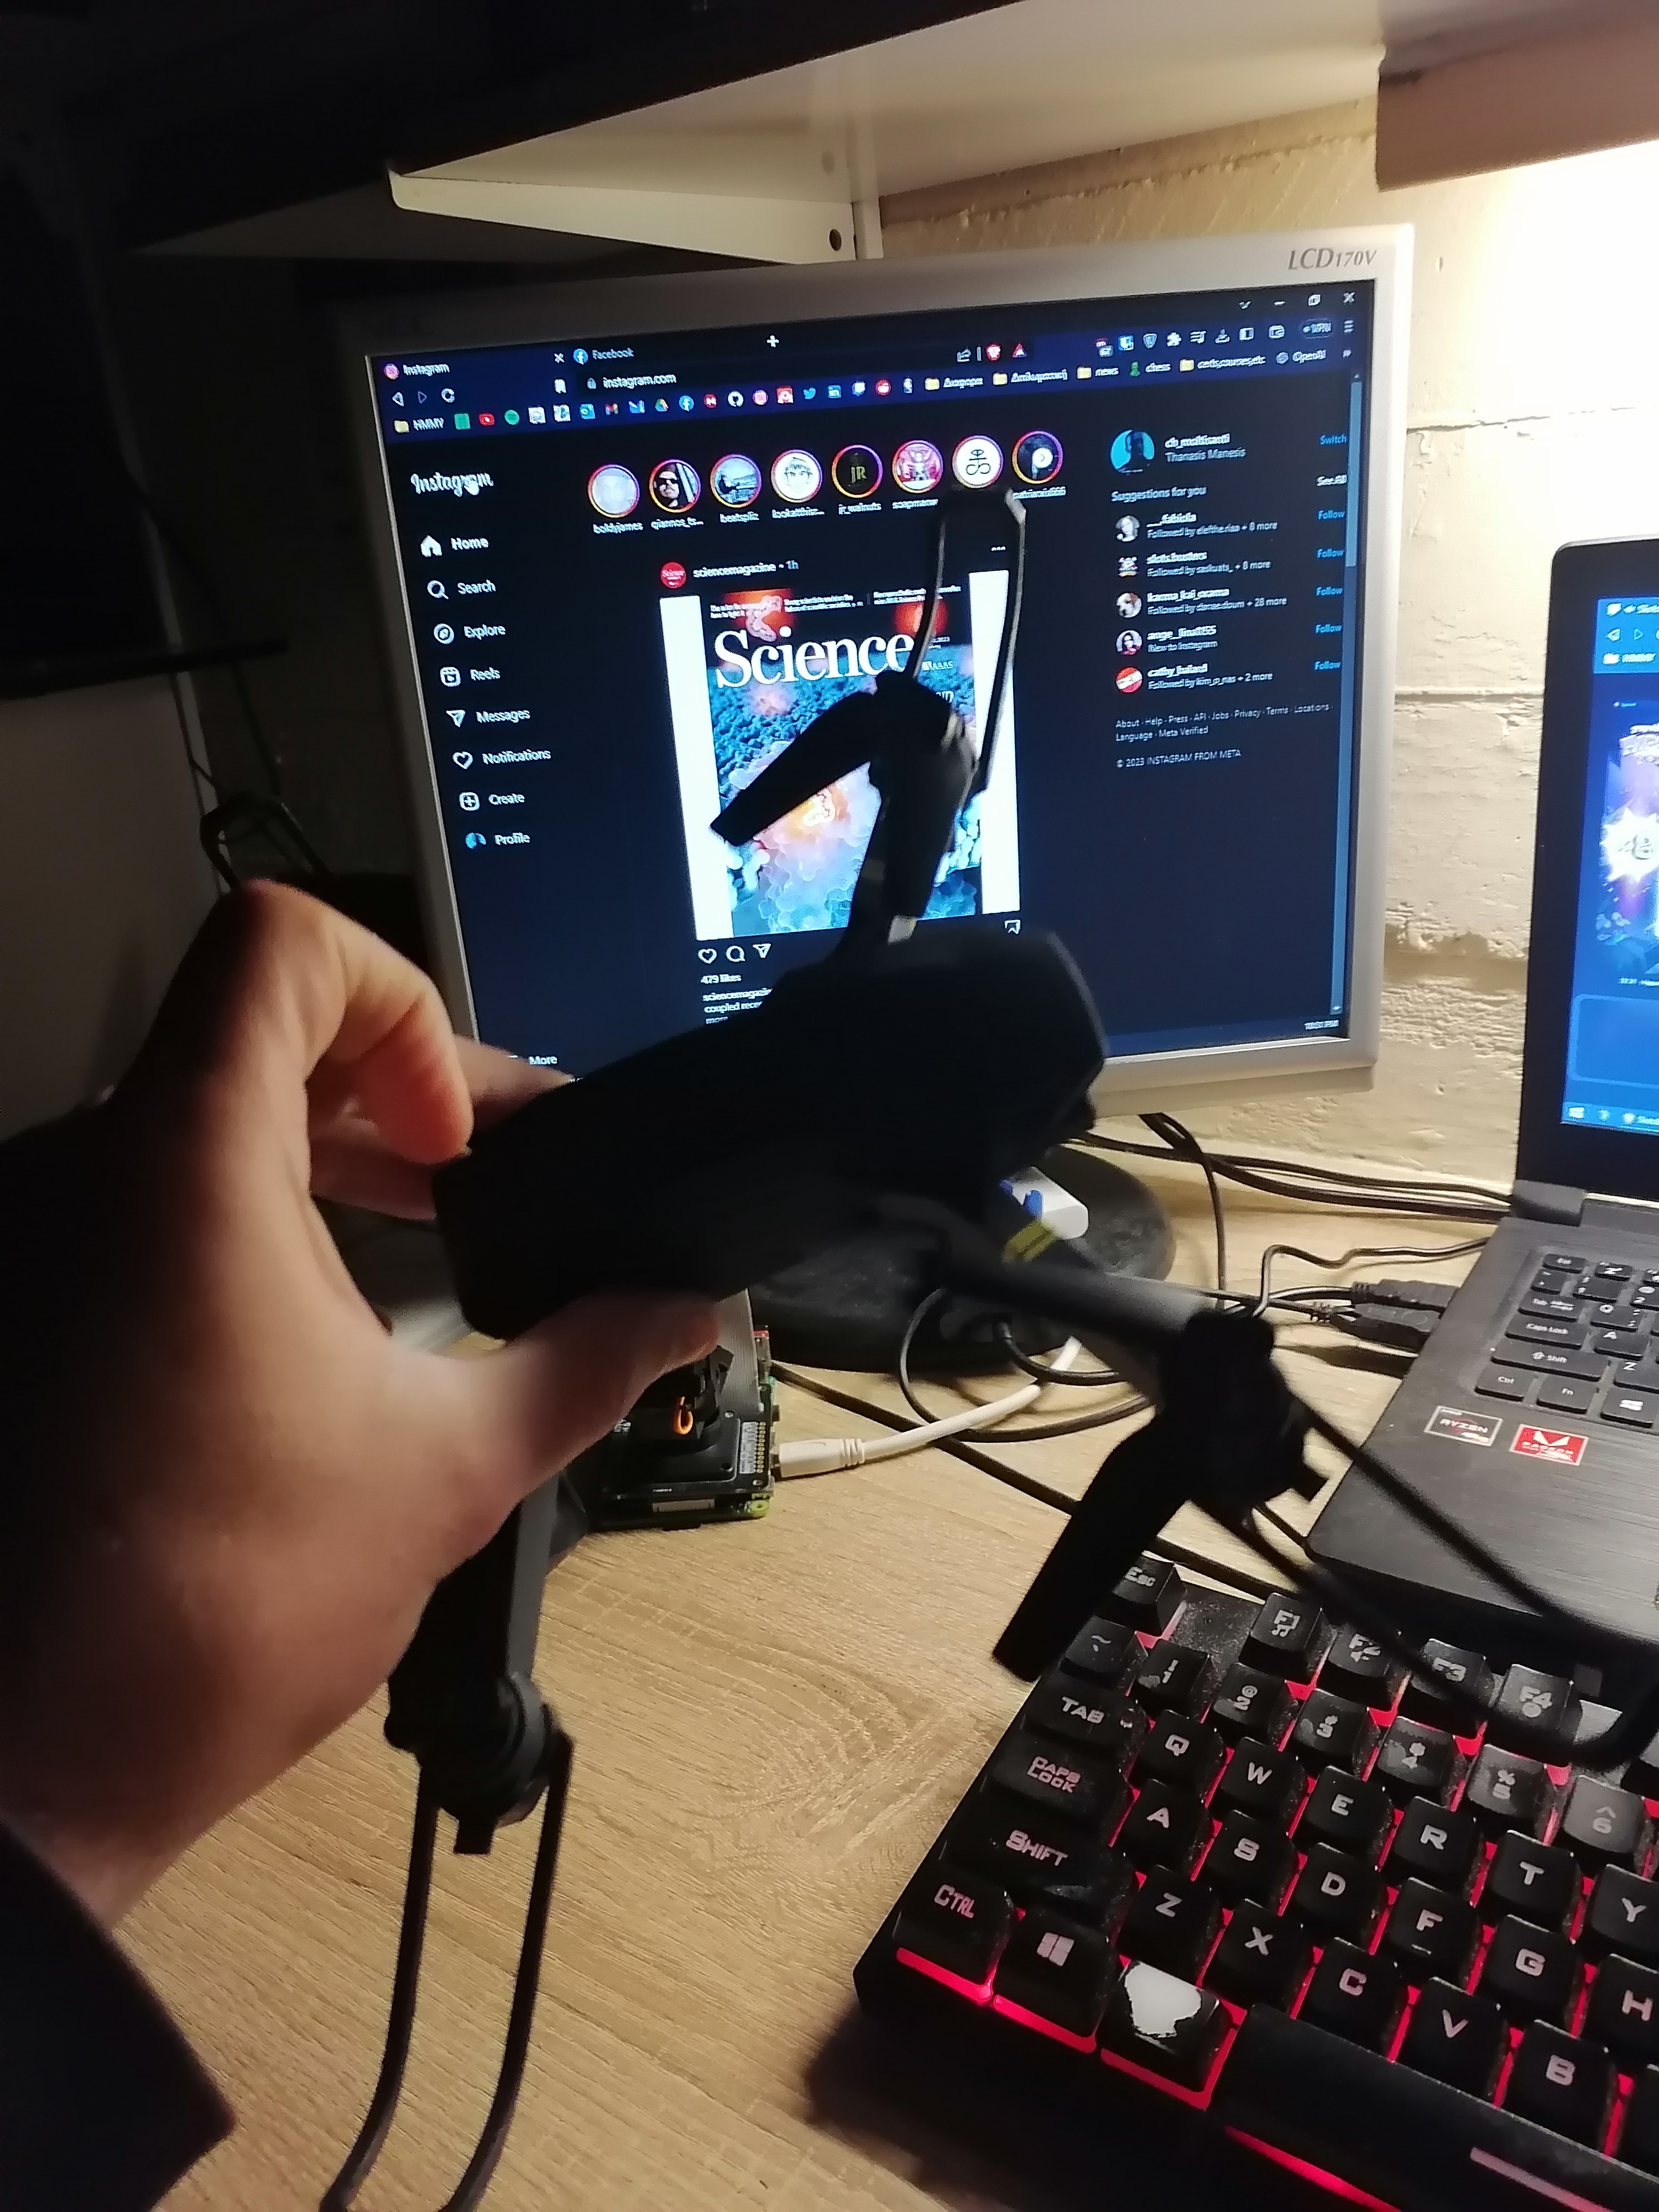drone: (164, 744, 1309, 1839)
